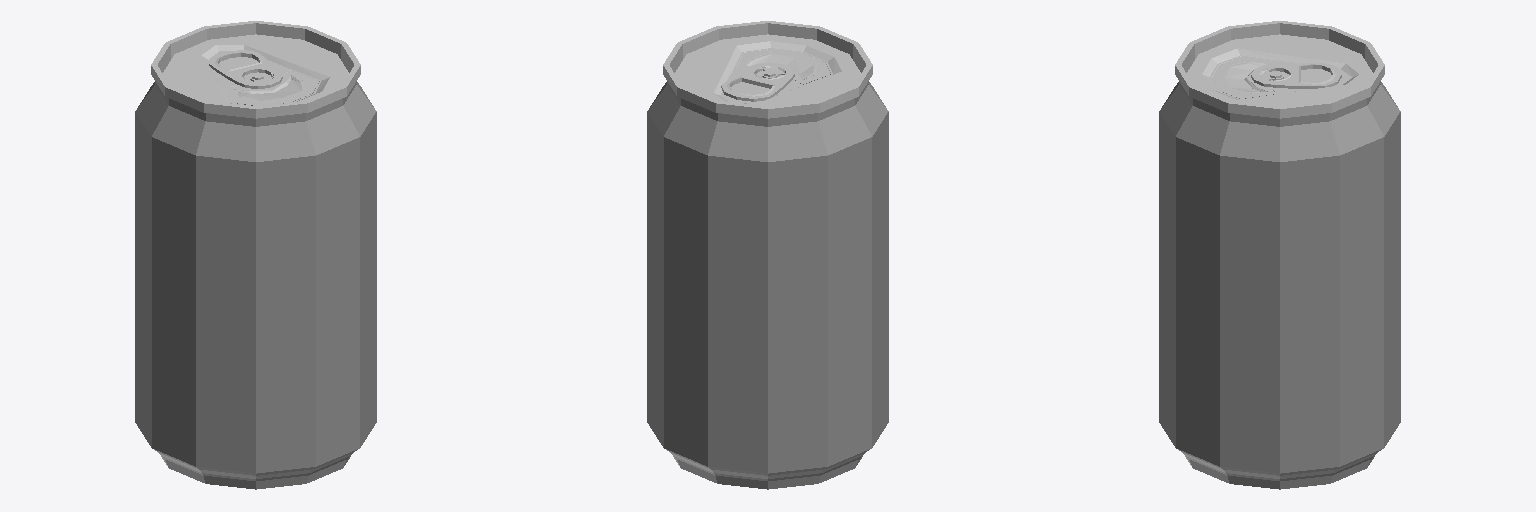
The picture shows the model from 3 angles: view 1: azimuth 30°, elevation 25°; view 2: azimuth 150°, elevation 25°; view 3: azimuth 270°, elevation 25°; orthographic projection.
Visible parts, largest first — view 1: Cilindro1, Cilindro2, Disco; view 2: Cilindro1, Cilindro2, Disco; view 3: Cilindro1, Cilindro2, Disco.
Boxes of the visible parts, x1=… form: Cilindro1: x1=135, y1=81, x2=376, y2=489; Cilindro2: x1=151, y1=21, x2=360, y2=118; Disco: x1=209, y1=50, x2=282, y2=88; Cilindro1: x1=647, y1=81, x2=888, y2=489; Cilindro2: x1=663, y1=21, x2=872, y2=118; Disco: x1=721, y1=63, x2=794, y2=101; Cilindro1: x1=1159, y1=81, x2=1400, y2=489; Cilindro2: x1=1175, y1=21, x2=1384, y2=118; Disco: x1=1251, y1=63, x2=1341, y2=88.
Bounding box in the file's own units: 5.5 × 9.61 × 5.5.
Materials: 2 (1 with a texture image).